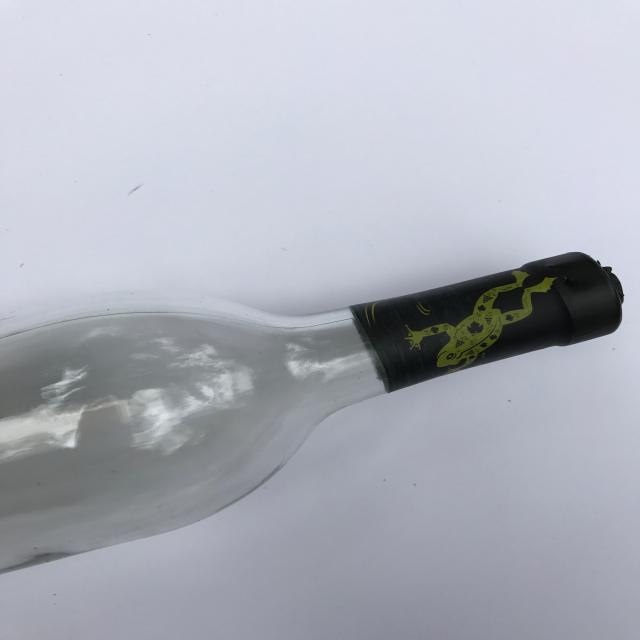glass: (1, 250, 625, 574)
